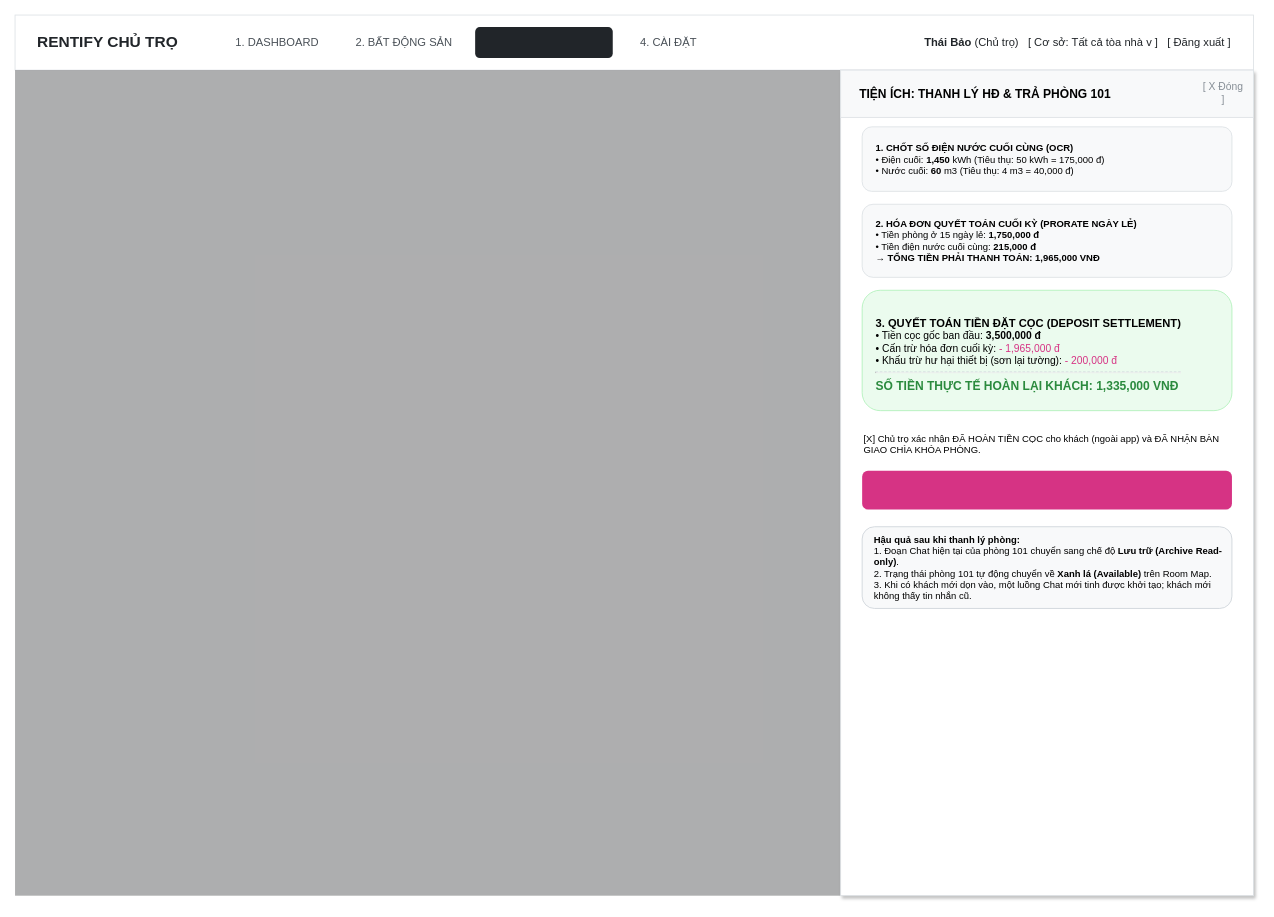
Image size: 1274x917. Some labels were removed from this diagram. The shapes that lost their labels are listed below. From the top down, each one's centre as x and y in pixels, then its label:
At (543,42): "3. TIN NHẮN (HUB)".
At (1047,489): "[ ! ] XÁC NHẬN THANH LÝ HỢP ĐỒNG & ĐÓNG PHÒNG".
